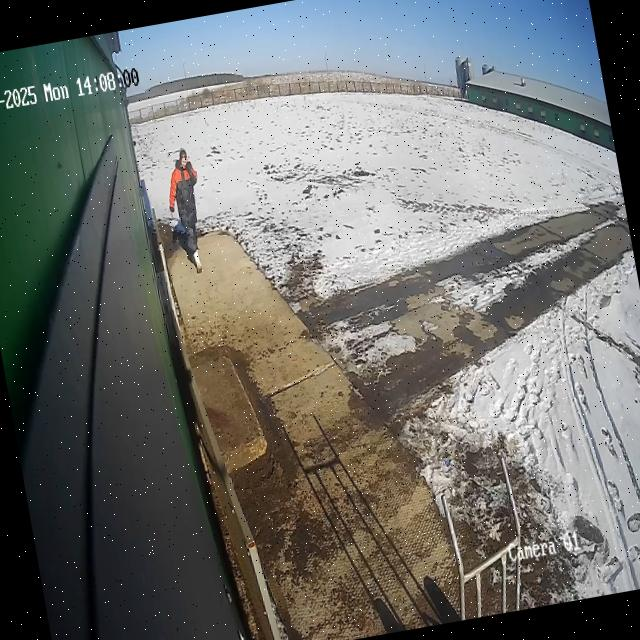Red uniform: (168, 148, 201, 272)
